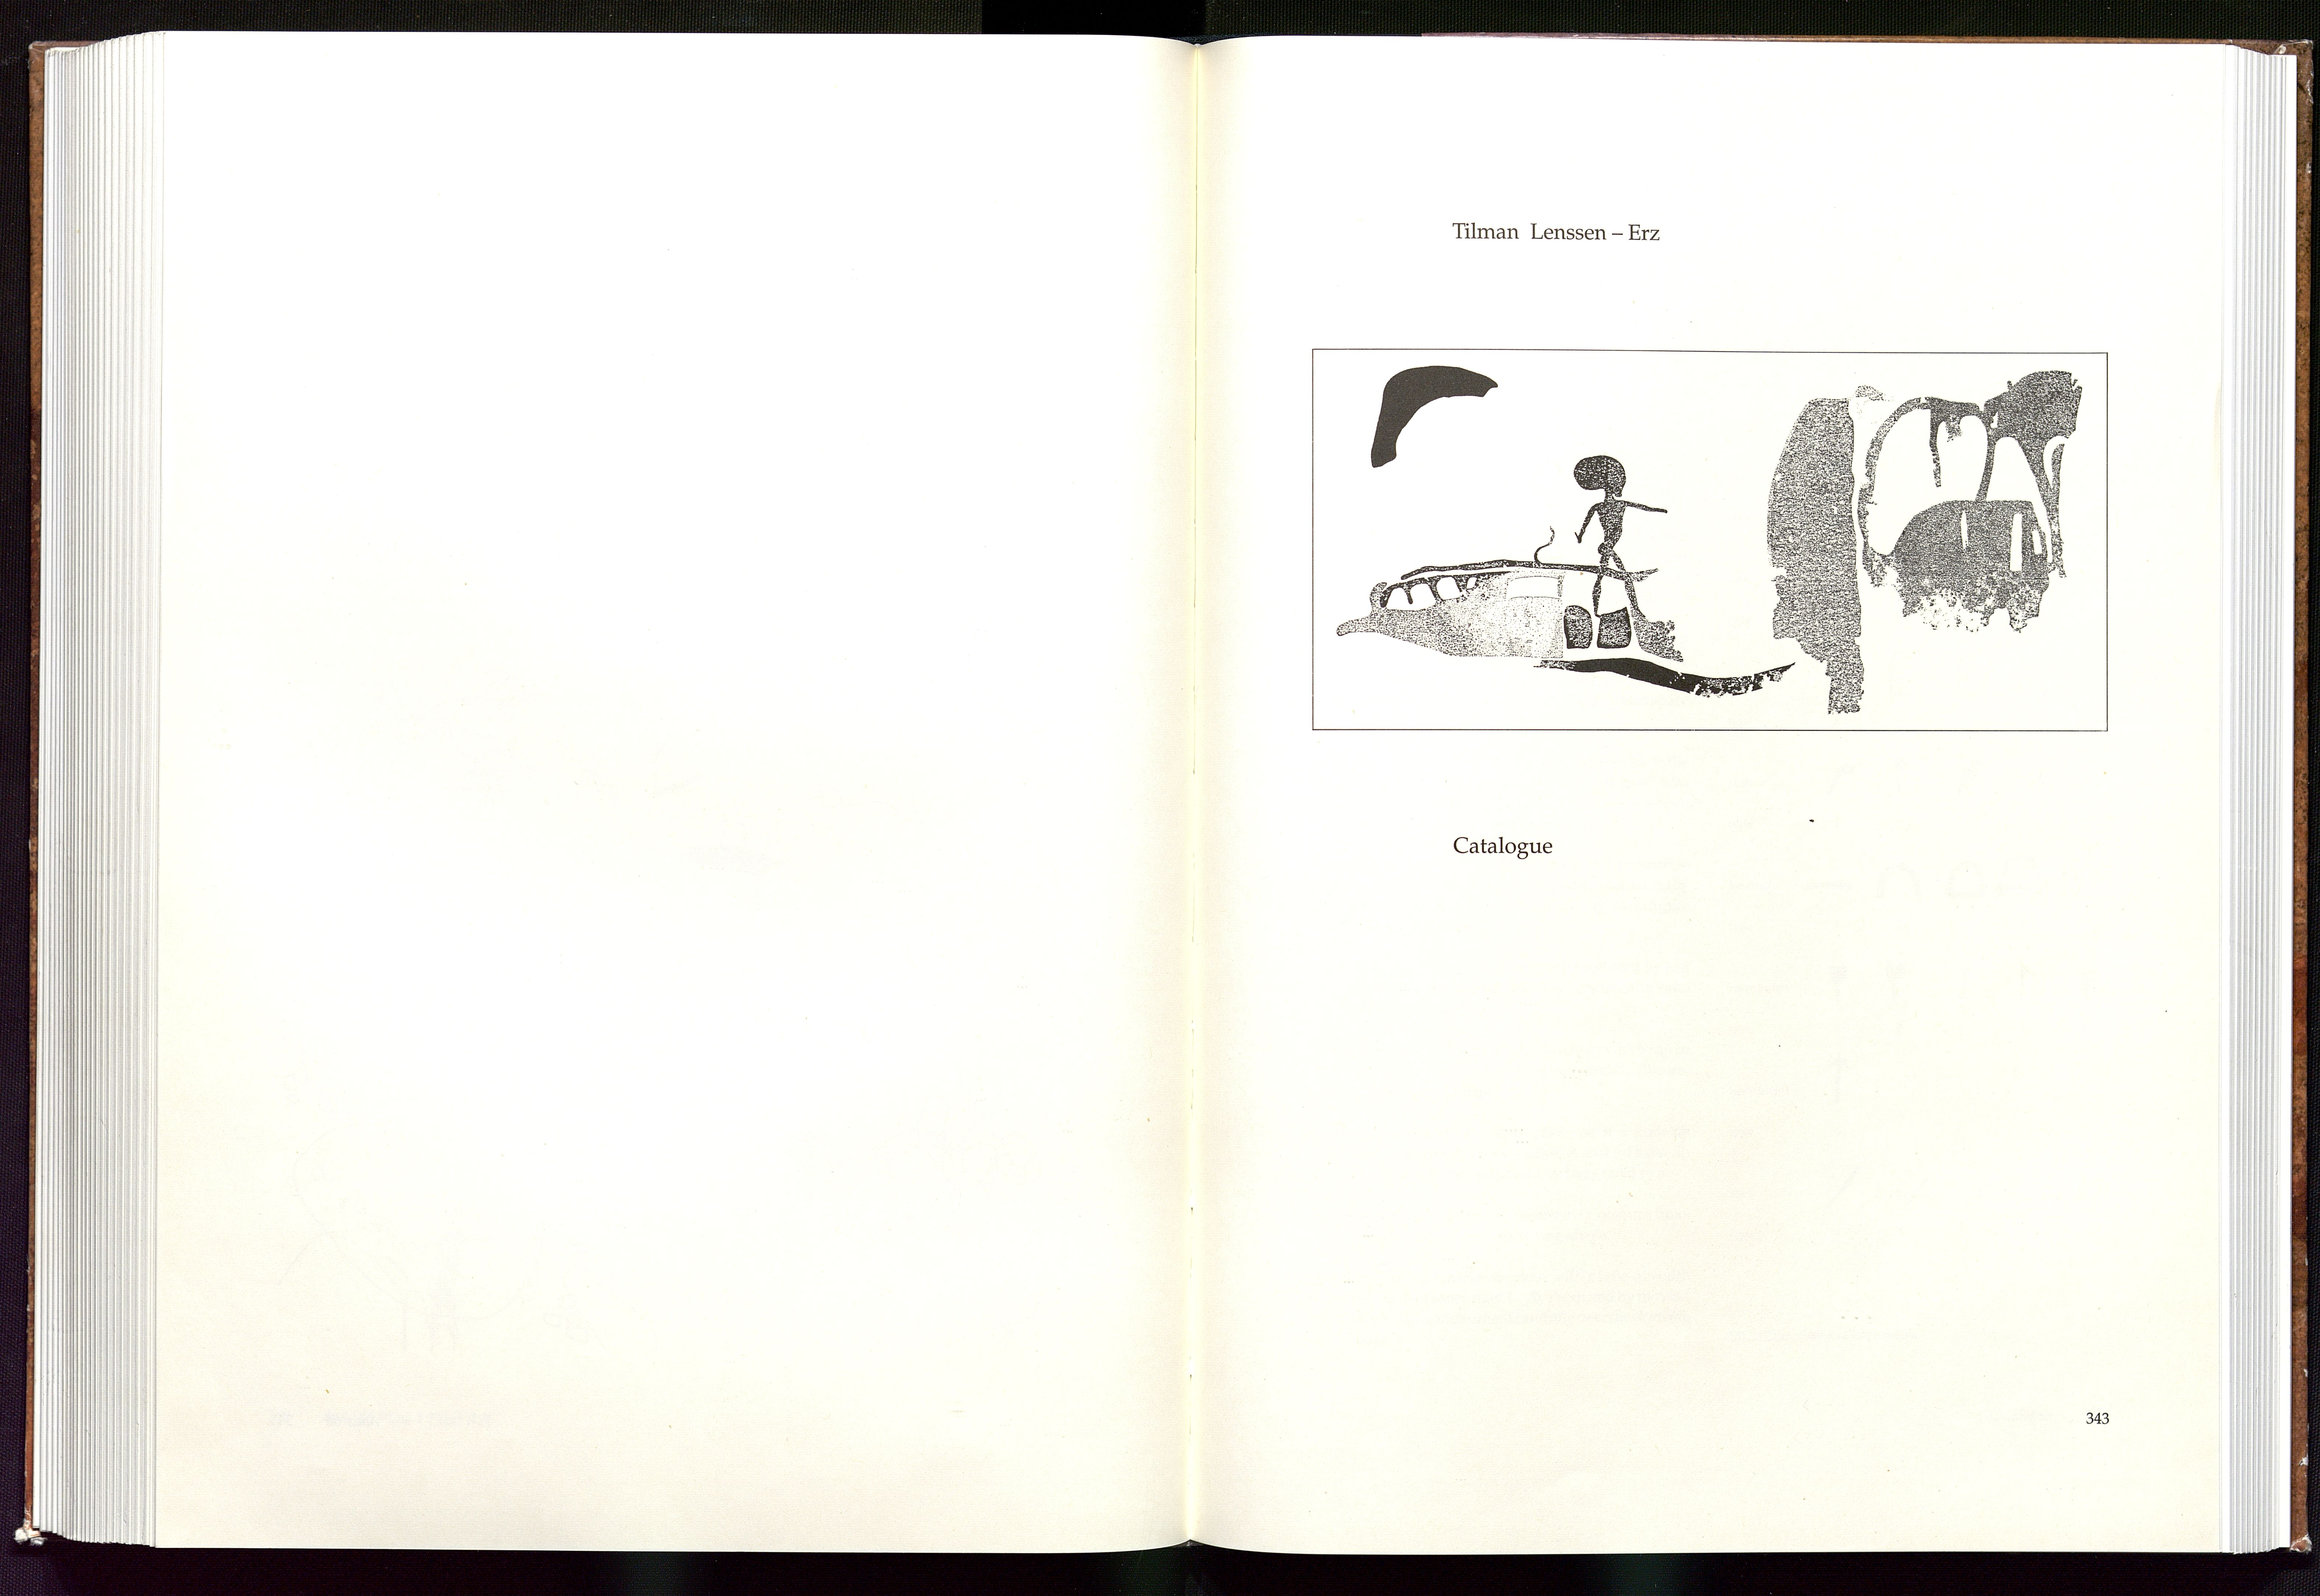human: (1566, 447, 1671, 630)
